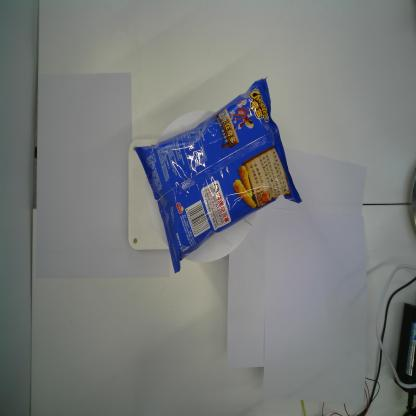Puffed Food: (131, 76, 306, 276)
